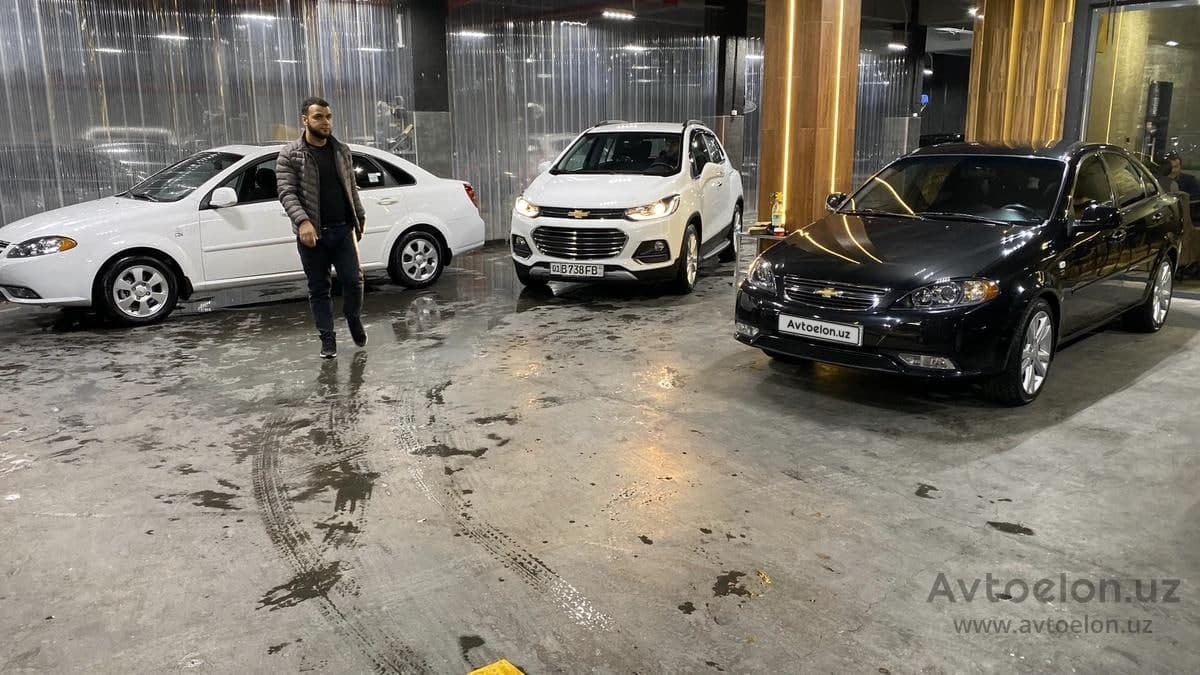lasetti: (740, 142, 1192, 387), (17, 126, 480, 309)
tracker: (516, 123, 741, 294)
